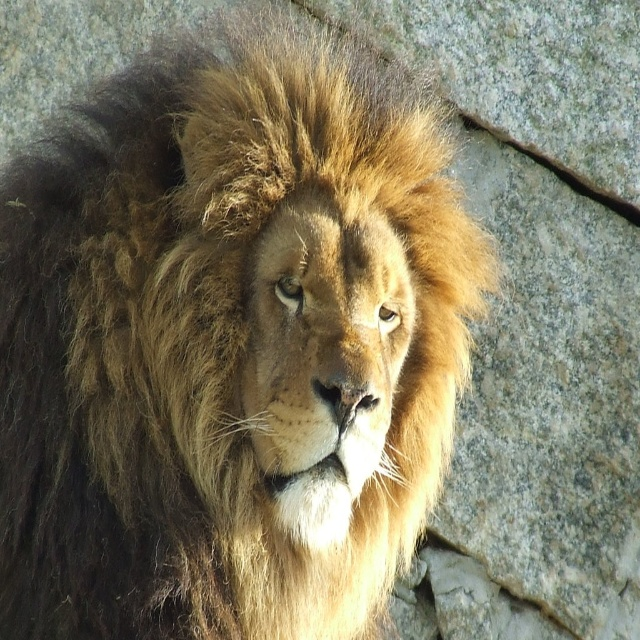Lion: (0, 0, 512, 640)
